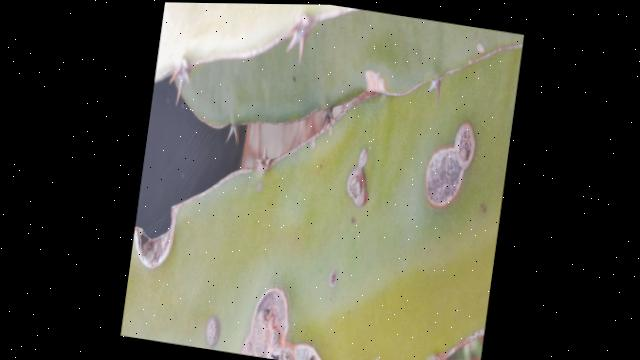stemcanker: (421, 120, 481, 215), (345, 141, 373, 211), (200, 310, 227, 350)
